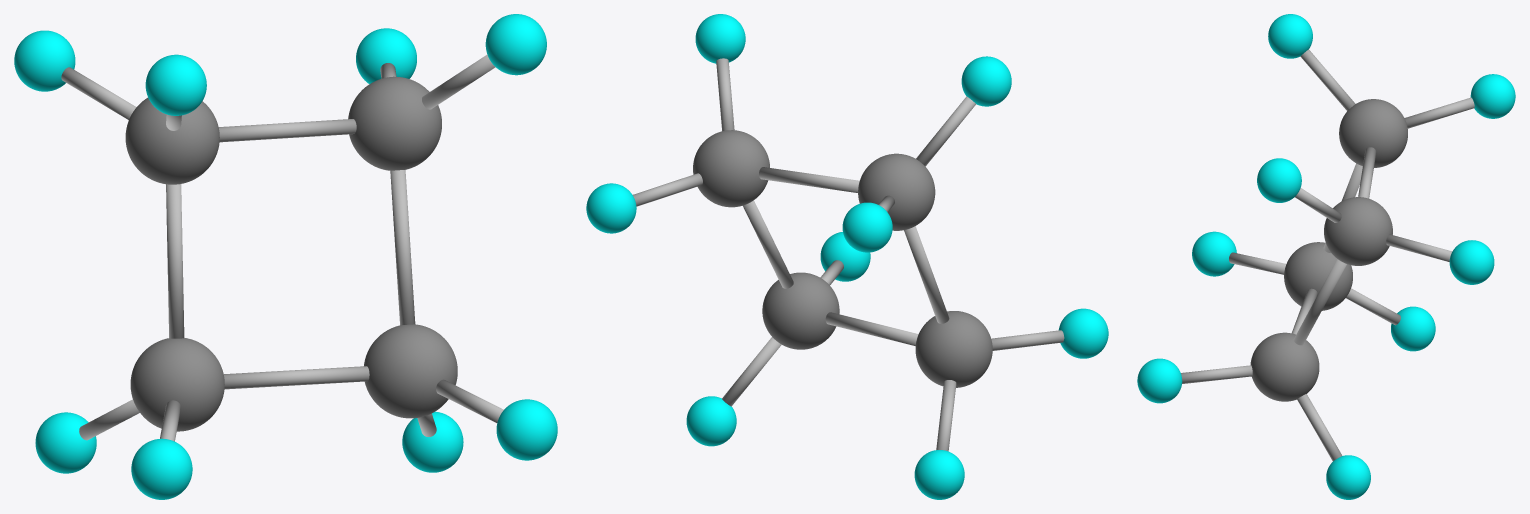
The model's file is cyclobutane.glb.
The picture shows the model from 3 angles, left to right: view 1: azimuth 30°, elevation 25°; view 2: azimuth 150°, elevation 25°; view 3: azimuth 270°, elevation 25°; orthographic projection. The views are drawn at different scales.
Visible parts, largest first — view 1: CMAtom_11; view 2: CMAtom_11; view 3: CMAtom_11.
Boxes of the visible parts, x1,y1,x2,y2 form: CMAtom_11: (14,14,557,499); CMAtom_11: (586,14,1108,499); CMAtom_11: (1137,14,1515,499).
Bounding box in the file's own units: 0.342 × 0.3702 × 0.3374.
